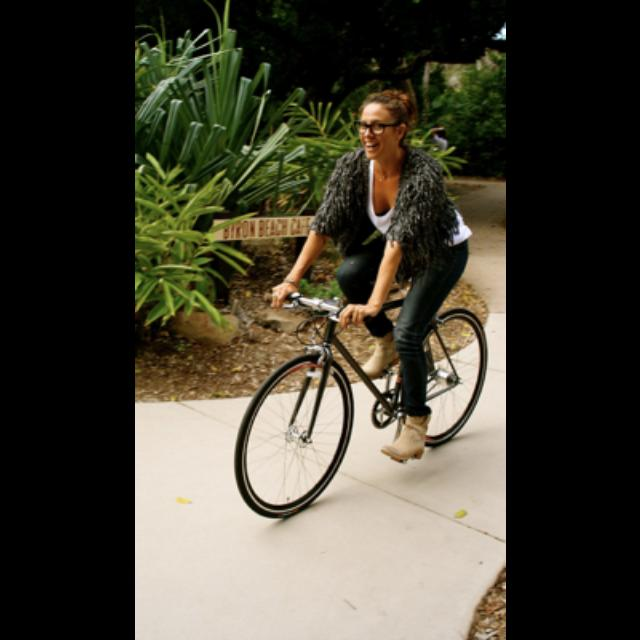Without Helmet: (349, 90, 411, 160)
